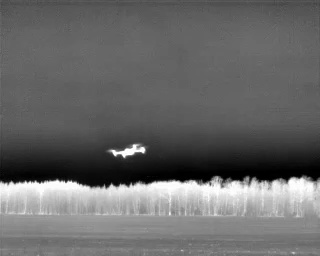DRONE: (102, 138, 153, 163)
